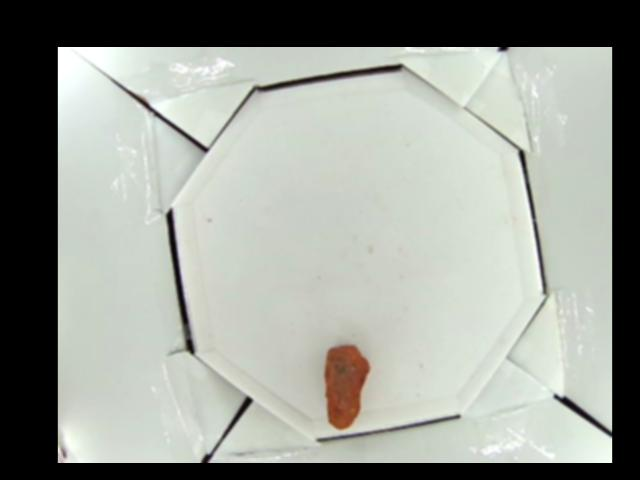Brisk: (324, 345, 368, 429)
